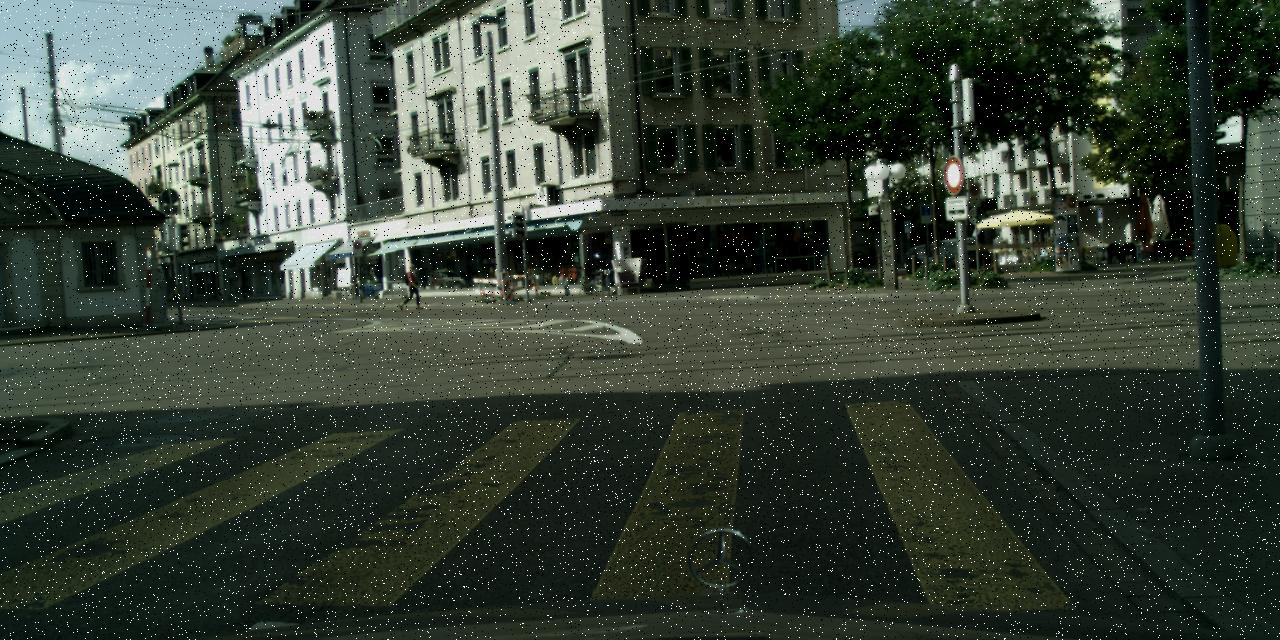ped: (401, 263, 418, 308)
